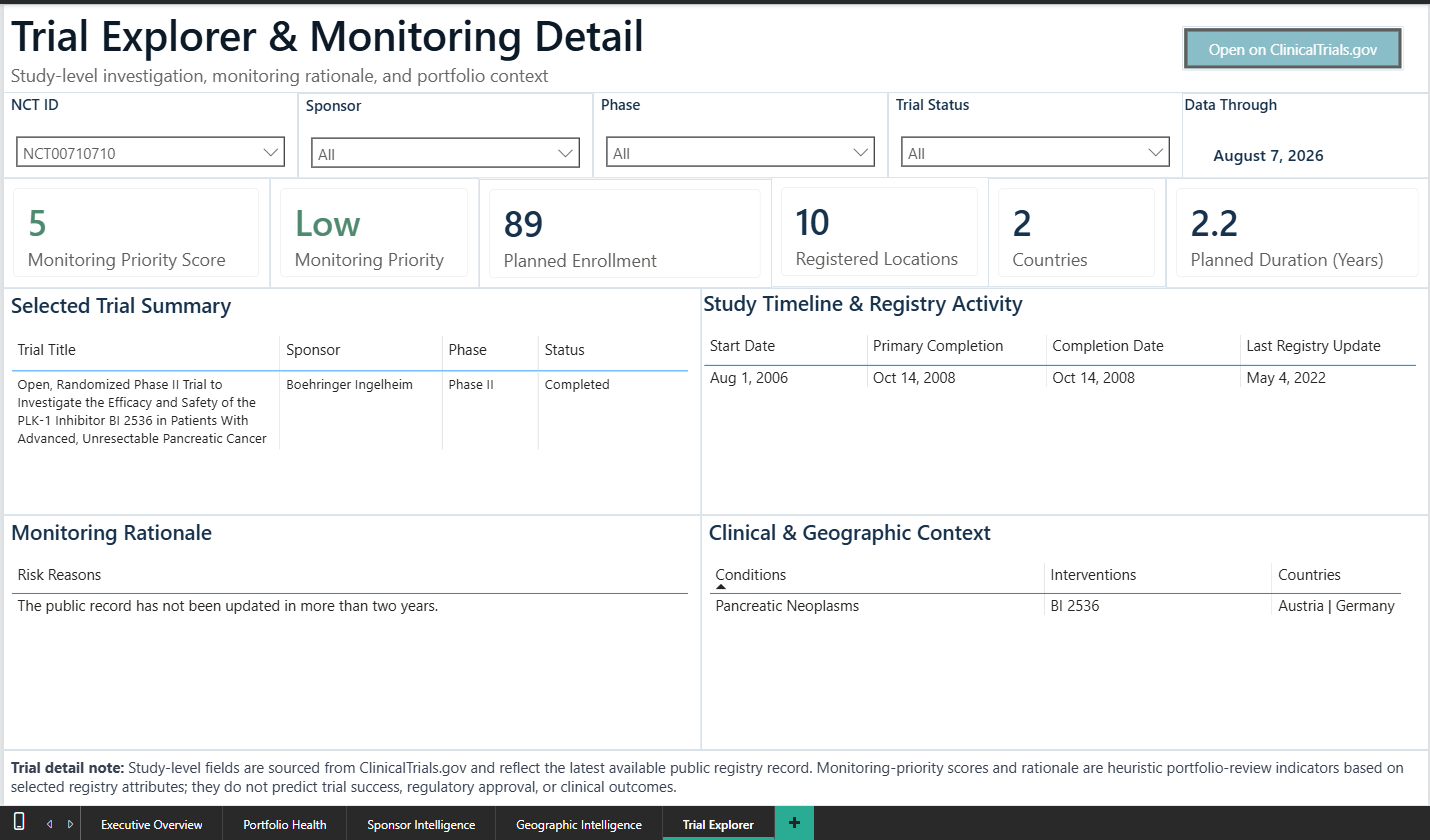

What the dashboard file says about the page in this screenshot:
{"tool":"powerbi","page":{"name":"Trial Explorer","canvas":[1280,720],"ordinal":4},"visuals":[{"type":"cardVisual","fields":{"Data":["_Measures.Selected Trial Risk Score"]},"box":[0,156.2,239.7,98.8],"z":0},{"type":"cardVisual","fields":{"Data":["_Measures.Selected Trial Priority Category"]},"box":[239.7,156.2,187.6,98.8],"z":1000},{"type":"cardVisual","fields":{"Data":["_Measures.Selected Trial Enrollment Display"]},"box":[427,156.9,262.7,98.4],"z":2000},{"type":"cardVisual","fields":{"Data":["_Measures.Selected Trial Locations"]},"box":[689.7,155,195.7,98.8],"z":3000},{"type":"cardVisual","fields":{"Data":["_Measures.Selected Trial Countries"]},"box":[884.6,155.9,159.7,98.4],"z":4000},{"type":"cardVisual","fields":{"Data":["_Measures.Selected Trial Duration Display"]},"box":[1044.1,156.2,236.1,98.8],"z":5000},{"type":"tableEx","title":"Selected Trial Summary","fields":{"Values":["Trials.brief_title","Trials.sponsor","Trials.phase_clean","Trials.status_group"]},"box":[0,255,626.6,203.8],"z":6000},{"type":"tableEx","title":"Monitoring Rationale","fields":{"Values":["Trials.risk_reasons"]},"box":[0,458.8,626.6,211],"z":7000},{"type":"tableEx","title":"Clinical & Geographic Context","fields":{"Values":["Trials.conditions","Trials.interventions","Trials.countries"]},"box":[626.6,458.8,653.6,211],"z":8000},{"type":"tableEx","title":"Study Timeline & Registry Activity","fields":{"Values":["_Measures.Selected Start Date Display","_Measures.Selected Primary Completion Display","_Measures.Selected Completion Date Display","_Measures.Selected Last Registry Update Display"]},"box":[626.6,255,653.6,203.8],"z":9000},{"type":"slicer","title":"Phase","fields":{"Values":["Trials.phase_clean"]},"box":[529.7,79,265,76.8],"z":10000},{"type":"slicer","title":"Sponsor","fields":{"Values":["Trials.sponsor"]},"box":[264.8,79.9,264.8,76.3],"z":11000},{"type":"slicer","title":"Trial Status","fields":{"Values":["Trials.status_group"]},"box":[794.5,79,265,76.8],"z":12000},{"type":"cardVisual","title":"Data Through","fields":{"Data":["_Measures.Latest Registry Update"]},"box":[1058.5,79.9,221.7,76.3],"z":13000},{"type":"textbox","title":"Trial Explorer & Monitoring Detail","box":[0,0,1280,79.8],"z":14000},{"type":"textbox","box":[0,669.9,1281,50.3],"z":15000},{"type":"slicer","title":"NCT ID","fields":{"Values":["Trials.nct_id"]},"box":[0,79,265,76.8],"z":16000},{"type":"actionButton","box":[1058.2,19.5,199.3,40.4],"z":17000}]}

Visuals, with their boxes on the page's 1280x720 design canvas (x1, y1, x2, y2). These are canvas units, not pixel positions in the 1430x840 screenshot, which may show the page scaled, cropped or inside an application window:
cardVisual - _Measures.Selected Trial Risk Score: (x1=0, y1=156, x2=240, y2=255)
cardVisual - _Measures.Selected Trial Priority Category: (x1=240, y1=156, x2=427, y2=255)
cardVisual - _Measures.Selected Trial Enrollment Display: (x1=427, y1=157, x2=690, y2=255)
cardVisual - _Measures.Selected Trial Locations: (x1=690, y1=155, x2=885, y2=254)
cardVisual - _Measures.Selected Trial Countries: (x1=885, y1=156, x2=1044, y2=254)
cardVisual - _Measures.Selected Trial Duration Display: (x1=1044, y1=156, x2=1280, y2=255)
"Selected Trial Summary" tableEx: (x1=0, y1=255, x2=627, y2=459)
"Monitoring Rationale" tableEx: (x1=0, y1=459, x2=627, y2=670)
"Clinical & Geographic Context" tableEx: (x1=627, y1=459, x2=1280, y2=670)
"Study Timeline & Registry Activity" tableEx: (x1=627, y1=255, x2=1280, y2=459)
"Phase" slicer: (x1=530, y1=79, x2=795, y2=156)
"Sponsor" slicer: (x1=265, y1=80, x2=530, y2=156)
"Trial Status" slicer: (x1=794, y1=79, x2=1060, y2=156)
"Data Through" cardVisual: (x1=1058, y1=80, x2=1280, y2=156)
"Trial Explorer & Monitoring Detail" textbox: (x1=0, y1=0, x2=1280, y2=80)
textbox: (x1=0, y1=670, x2=1281, y2=720)
"NCT ID" slicer: (x1=0, y1=79, x2=265, y2=156)
actionButton: (x1=1058, y1=20, x2=1258, y2=60)
